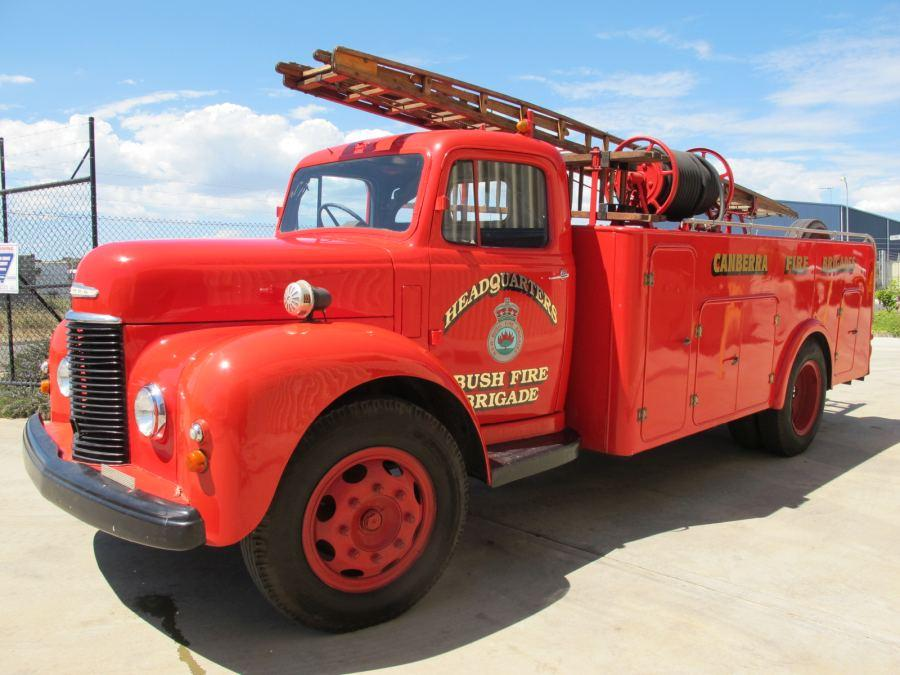Fire-engine: (20, 44, 878, 634)
